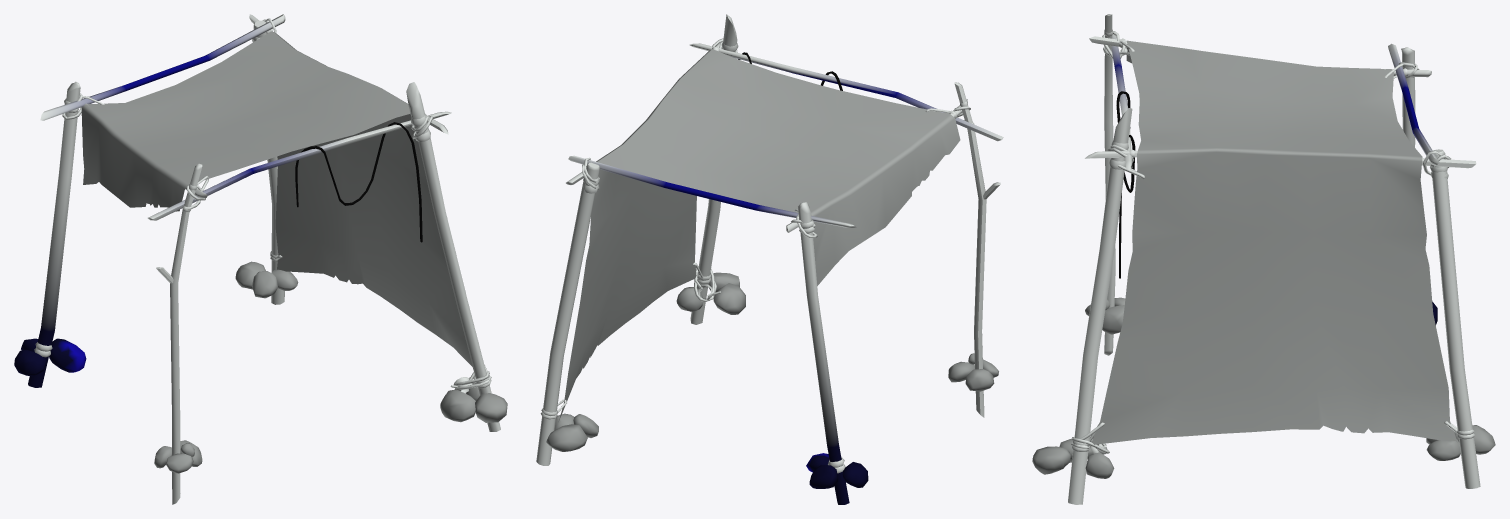
3 views of the same model, side by side, from view 1: azimuth 30°, elevation 25°; view 2: azimuth 150°, elevation 25°; view 3: azimuth 270°, elevation 25° (orthographic). The views are drawn at different scales.
Visible parts, largest first — view 1: G:\FFXIV-MapTools\exports\n4t2\bg\ex3\01_nvt_n4\twn\n4t2\bgp (×6); view 2: G:\FFXIV-MapTools\exports\n4t2\bg\ex3\01_nvt_n4\twn\n4t2\bgp (×5); view 3: G:\FFXIV-MapTools\exports\n4t2\bg\ex3\01_nvt_n4\twn\n4t2\bgp (×6).
Part boxes in pixels (left/top/right/bottom): G:\FFXIV-MapTools\exports\n4t2\bg\ex3\01_nvt_n4\twn\n4t2\bgp (×6): left=14, top=14, right=507, bottom=504; G:\FFXIV-MapTools\exports\n4t2\bg\ex3\01_nvt_n4\twn\n4t2\bgp (×5): left=536, top=14, right=1003, bottom=504; G:\FFXIV-MapTools\exports\n4t2\bg\ex3\01_nvt_n4\twn\n4t2\bgp (×6): left=1032, top=14, right=1495, bottom=504.
Size of the model in its own units: 5.82 by 5.9 by 6.54.
